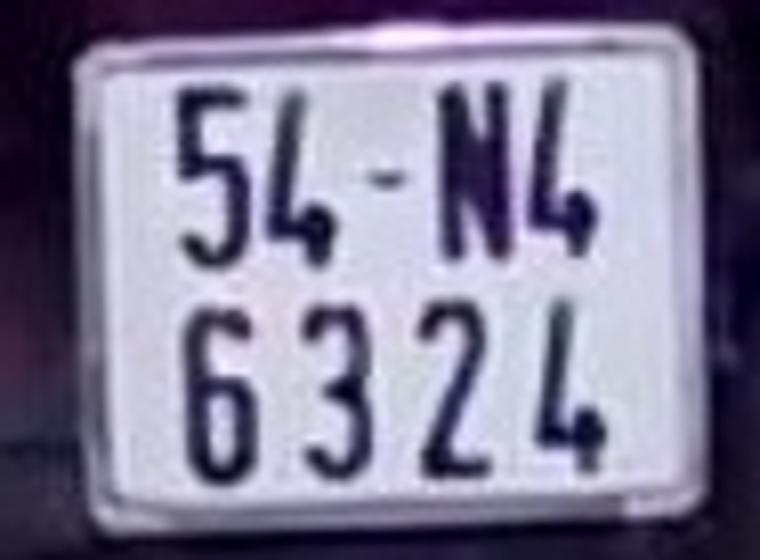-: (362, 165, 413, 198)
2: (410, 294, 502, 491)
3: (286, 295, 377, 485)
4: (525, 66, 607, 271), (263, 79, 344, 269), (534, 297, 612, 483)
5: (170, 78, 259, 273)
6: (174, 295, 270, 494)
N: (426, 79, 521, 273)
